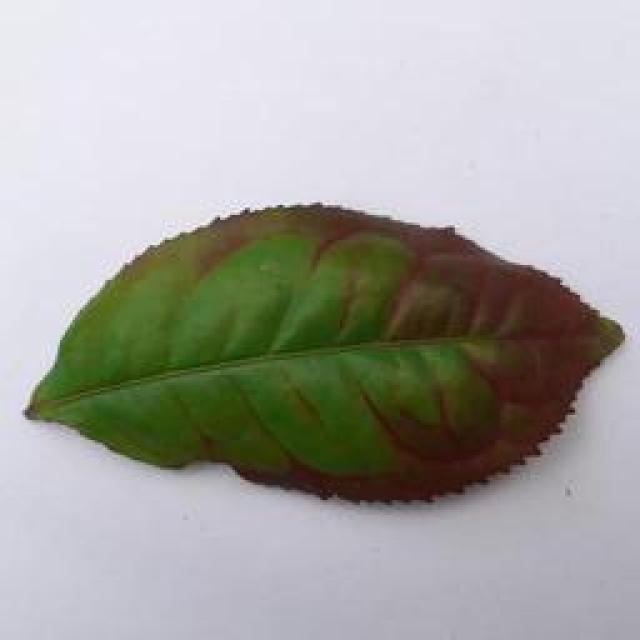Red Leaf Spot: (20, 189, 637, 517)
